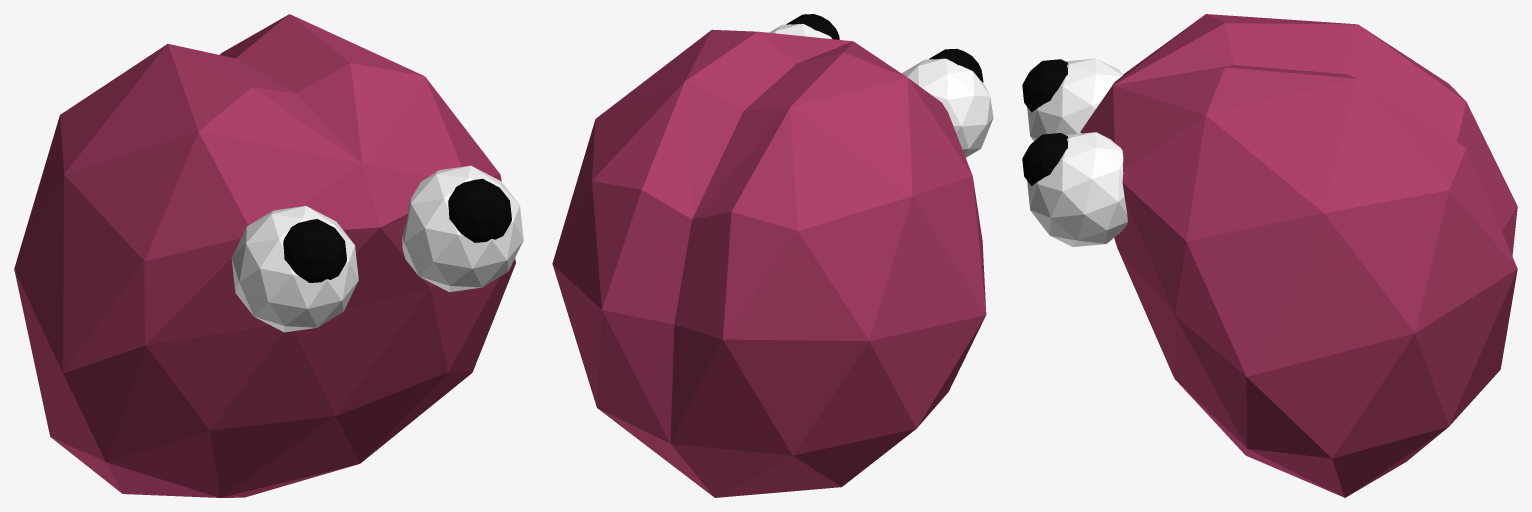
Rendered from brain.fbx.
3 views of the same model, side by side, from view 1: azimuth 30°, elevation 25°; view 2: azimuth 150°, elevation 25°; view 3: azimuth 270°, elevation 25° (orthographic). The views are drawn at different scales.
Parts seen in each view (by area): view 1: brain; view 2: brain; view 3: brain.
Part boxes in pixels (x1,y1,x2,y2): brain: (14,14,523,497); brain: (552,14,993,497); brain: (1022,14,1517,497).
Bounding box in the file's own units: 56.3 × 55.13 × 58.25.
Materials: 1 (1 with a texture image).
